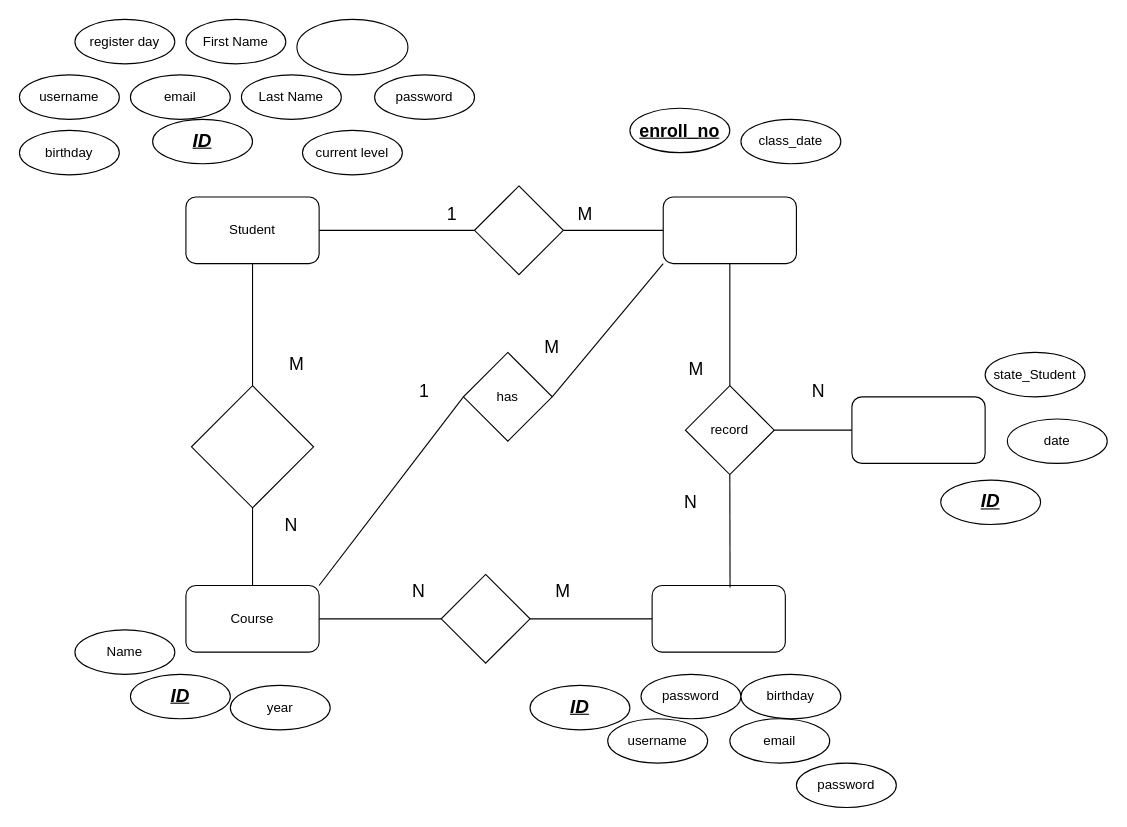
The diagram is 1127 pixels wide and 827 high, and some of its shapes have lost their labels. Here are the shapes that lost their labels. From the top down, the centre of each, then its label:
the point at 352,46: Cumulative GPA
the point at 518,230: give
the point at 729,230: Attendance
the point at 252,446: record_course
the point at 918,429: period
the point at 485,618: Teach
the point at 718,618: instructor
